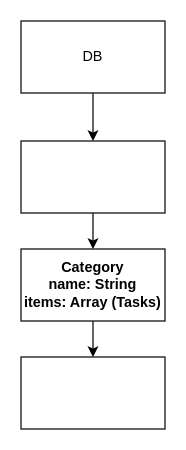
Some shapes in this 186 by 450 pixel diagram are drawn without their labels. Here are the shapes that lost their labels. From the top down, the box of each, then its label:
(20, 140, 165, 213): Days
(20, 356, 165, 429): Task name: String, link: String,
